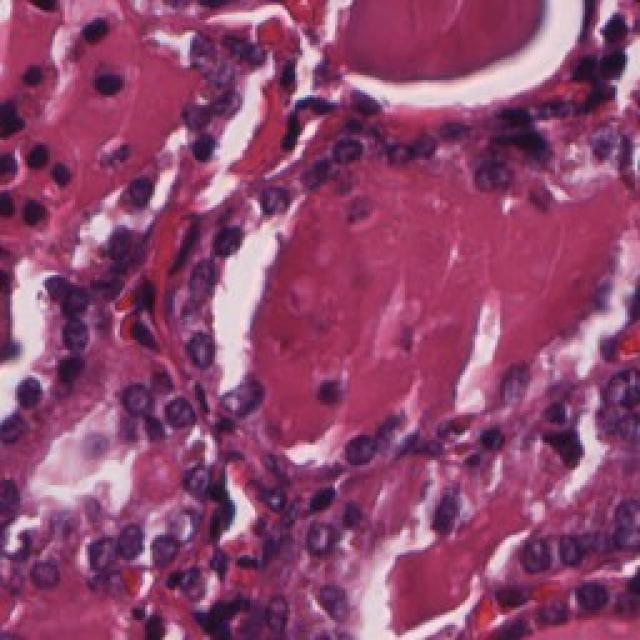abnormal: (287, 495, 359, 589), (487, 339, 552, 440), (499, 512, 562, 599), (323, 406, 394, 478), (455, 147, 534, 211), (101, 349, 163, 427), (177, 247, 231, 333), (60, 512, 122, 582), (168, 326, 237, 382), (209, 376, 262, 442), (589, 485, 640, 547), (158, 385, 206, 450)
